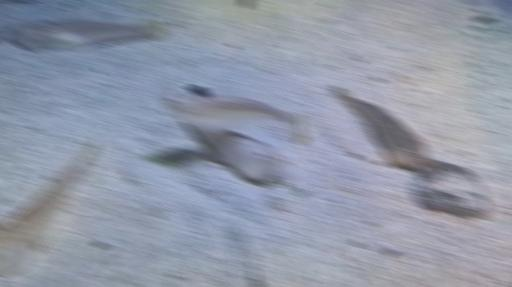Fish: (0, 139, 98, 267), (161, 88, 306, 144), (333, 87, 428, 169), (181, 124, 282, 181), (3, 19, 164, 51)
